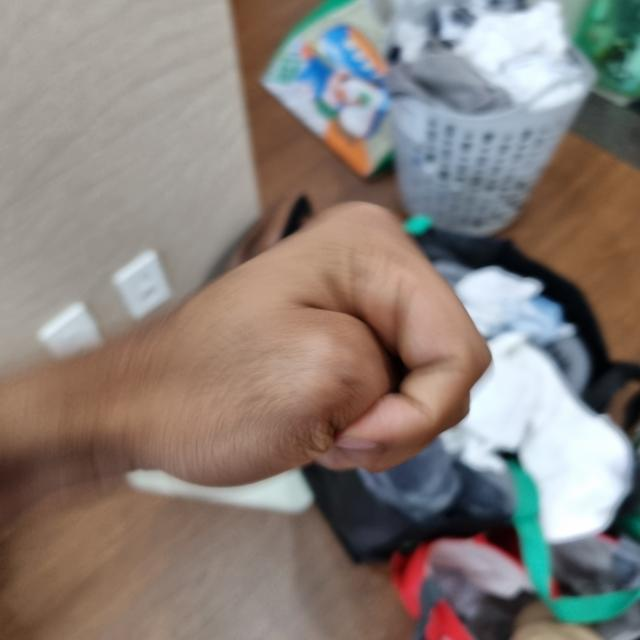Rock: (63, 210, 488, 486)
